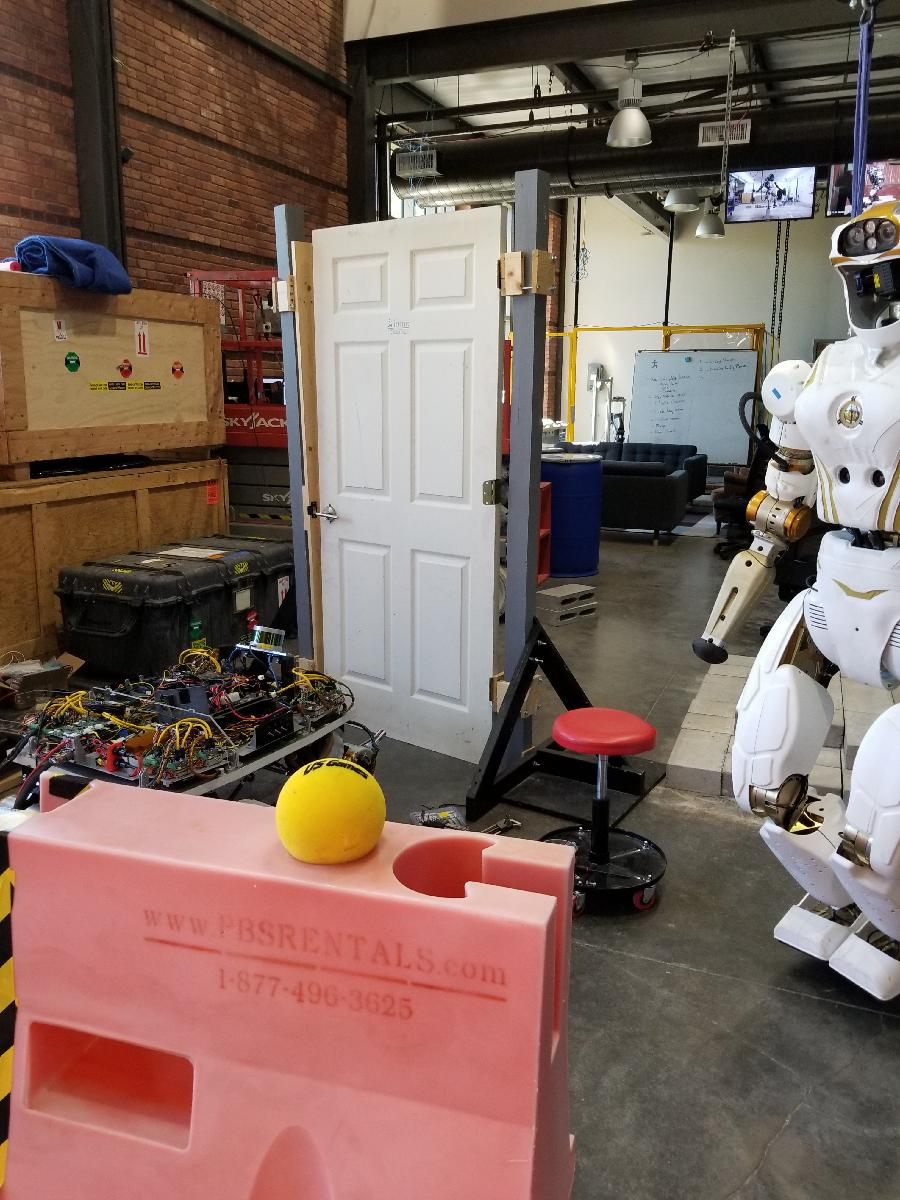door: (309, 200, 508, 775)
doorHandle: (313, 501, 350, 535)
